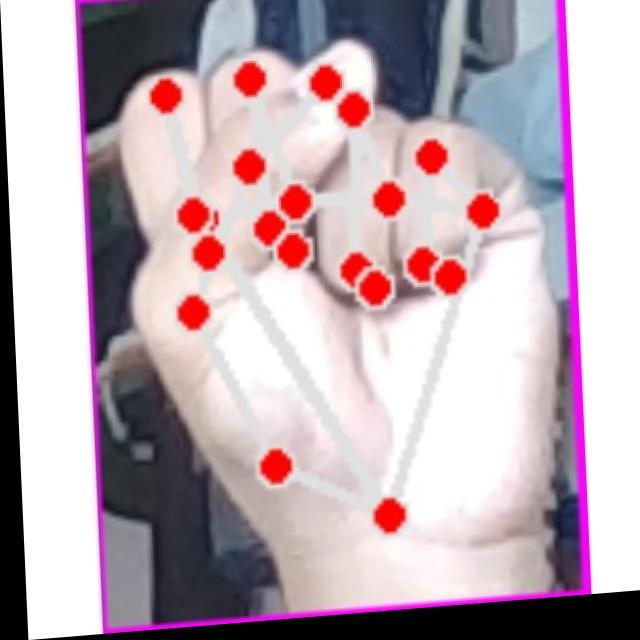S: (87, 20, 560, 589)
